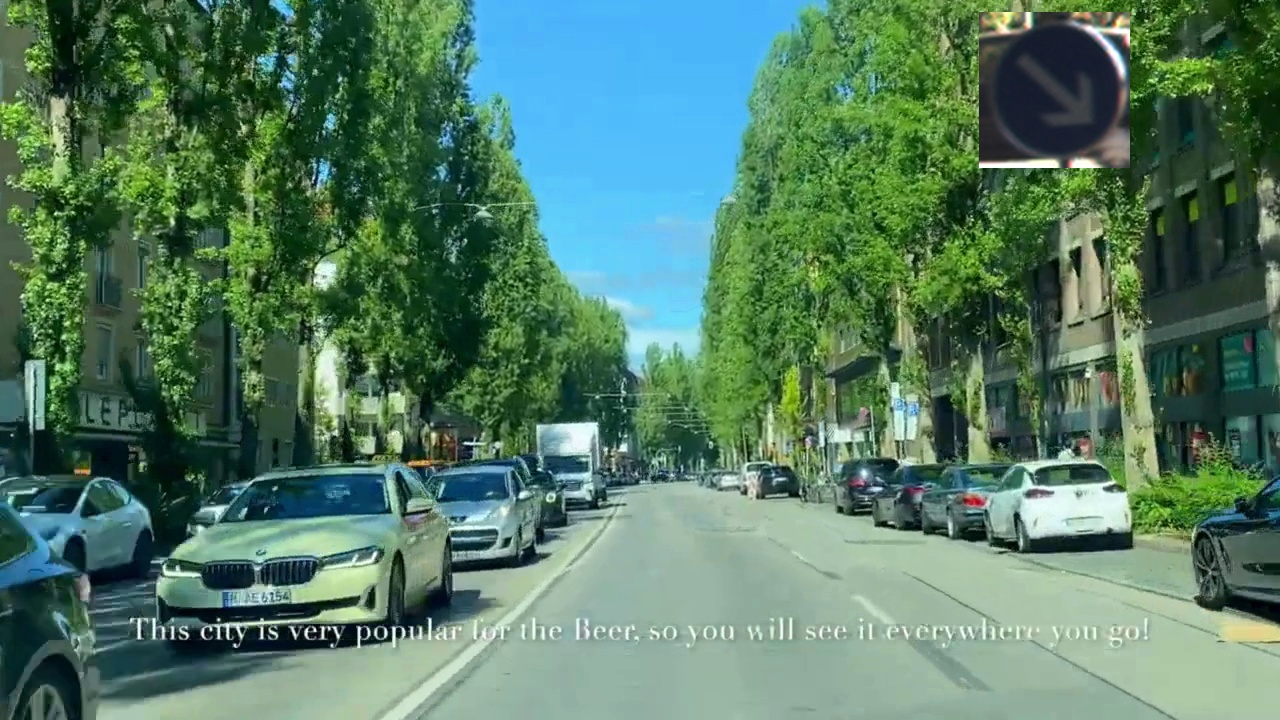Keep right: (979, 12, 1130, 168)
